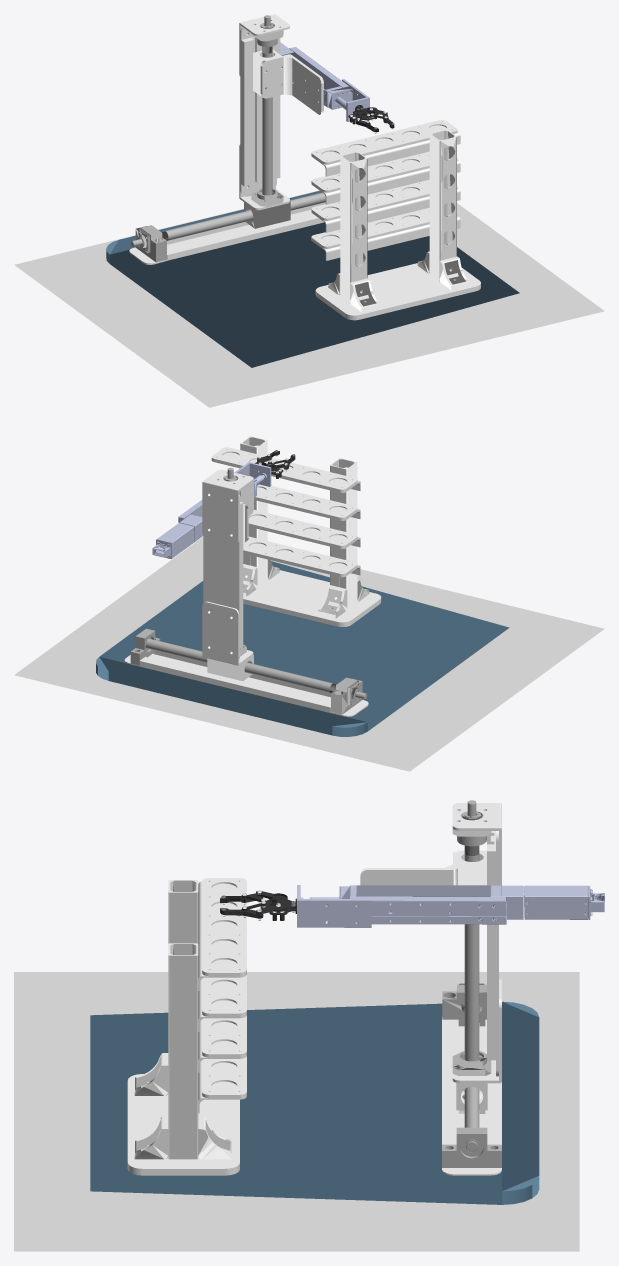
The model's file is traine.fbx.
The picture shows the model from 3 angles, top to bottom: view 1: azimuth 30°, elevation 25°; view 2: azimuth 150°, elevation 25°; view 3: azimuth 270°, elevation 25°; orthographic projection. The views are drawn at different scales.
Visible parts, largest first — view 1: Ô²½Ç1 (×7), Plane001, µ¹½Ç1 (×2), ÇÐ³ý-ÀÉì1 (×4), ÇÐ³ý-ÀÉì6, ÊäÈë1 (×3), ÇÐ³ý-ÀÉì3 (×2), Ô²½Ç6 (×2), Ô²½Ç2; view 2: Ô²½Ç1 (×7), Plane001, ÇÐ³ý-ÀÉì3 (×3), µ¹½Ç1 (×2), ÇÐ³ý-ÀÉì6, ÊäÈë1 (×3), Ô²½Ç6, NONE, Ô²½Ç2, ÇÐ³ý-ÀÉì4; view 3: Ô²½Ç1 (×7), Plane001, µ¹½Ç1 (×2), NONE (×4), ÊäÈë1 (×5), ÇÐ³ý-ÀÉì3 (×3), Ô²½Ç6 (×3), ÇÐ³ý-ÀÉì6, ÇÐ³ý-ÀÉì4, Ô²½Ç2 (×2).
Part boxes in pixels (left/top/right/bottom): Ô²½Ç1 (×7): left=106, top=120, right=519, bottom=367; Plane001: left=14, top=190, right=604, bottom=407; µ¹½Ç1 (×2): left=340, top=129, right=456, bottom=303; ÇÐ³ý-ÀÉì1 (×4): left=311, top=131, right=460, bottom=260; ÇÐ³ý-ÀÉì6: left=240, top=27, right=280, bottom=196; ÊäÈë1 (×3): left=131, top=15, right=325, bottom=262; ÇÐ³ý-ÀÉì3 (×2): left=239, top=14, right=323, bottom=114; Ô²½Ç6 (×2): left=350, top=256, right=468, bottom=311; Ô²½Ç2: left=244, top=201, right=290, bottom=228; Ô²½Ç1 (×7): left=96, top=447, right=509, bottom=736; Plane001: left=14, top=537, right=604, bottom=771; ÇÐ³ý-ÀÉì3 (×3): left=202, top=469, right=253, bottom=665; µ¹½Ç1 (×2): left=240, top=436, right=357, bottom=609; ÇÐ³ý-ÀÉì6: left=203, top=493, right=243, bottom=658; ÊäÈë1 (×3): left=130, top=628, right=366, bottom=714; Ô²½Ç6: left=317, top=585, right=347, bottom=618; NONE: left=157, top=523, right=194, bottom=558; Ô²½Ç2: left=207, top=654, right=253, bottom=681; ÇÐ³ý-ÀÉì4: left=234, top=462, right=271, bottom=486; Ô²½Ç1 (×7): left=90, top=878, right=539, bottom=1204; Plane001: left=14, top=972, right=579, bottom=1251; µ¹½Ç1 (×2): left=168, top=880, right=198, bottom=1159; NONE (×4): left=350, top=885, right=588, bottom=924; ÊäÈë1 (×5): left=442, top=800, right=501, bottom=1167; ÇÐ³ý-ÀÉì3 (×3): left=360, top=803, right=501, bottom=1083; Ô²½Ç6 (×3): left=134, top=1053, right=231, bottom=1159; ÇÐ³ý-ÀÉì6: left=487, top=831, right=498, bottom=1076; ÇÐ³ý-ÀÉì4: left=297, top=885, right=371, bottom=927; Ô²½Ç2 (×2): left=456, top=850, right=487, bottom=1113.
Size of the model in its own units: 34.82 by 18.74 by 31.1.
